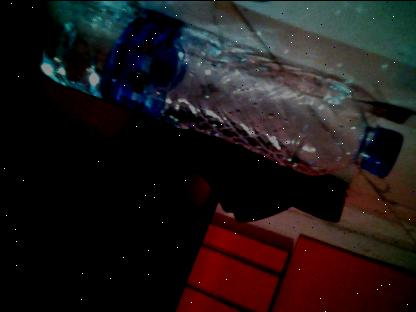Plastic Bottle: (37, 0, 401, 184)
